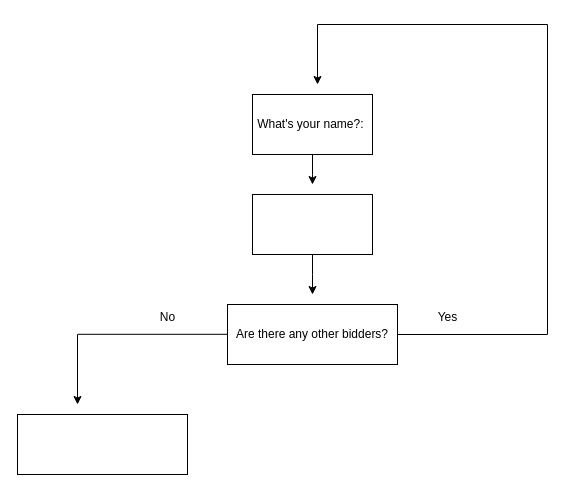
Some shapes in this 566 by 492 pixel diagram are drawn without their labels. The centre of each missing label's shape, as x and y in pixels:
"the winner is {name} with a bid of ${max_bid}" goes at point 102,444.
"What's your bid?: $" goes at point 312,224.
